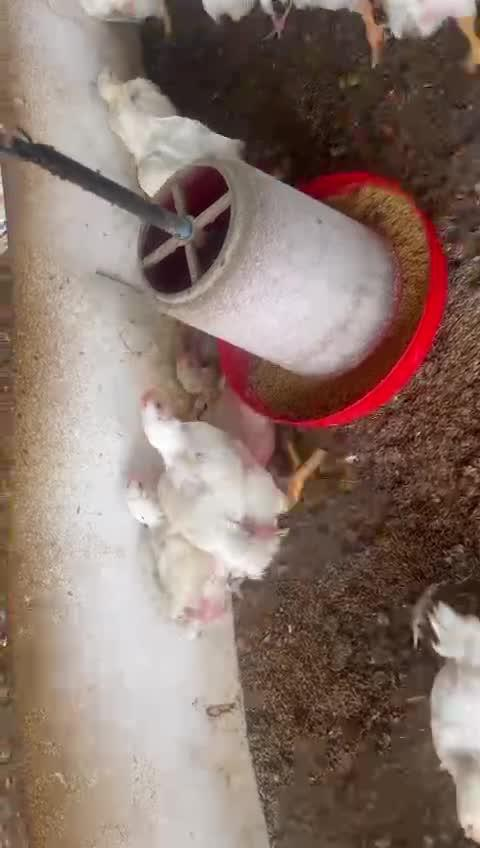AbNormal: (174, 335, 242, 434), (92, 60, 185, 121)
Normal: (142, 389, 325, 582), (127, 470, 250, 626), (430, 605, 480, 848), (110, 105, 249, 180), (285, 0, 383, 71), (385, 0, 480, 69), (204, 0, 286, 47), (79, 0, 173, 29)
